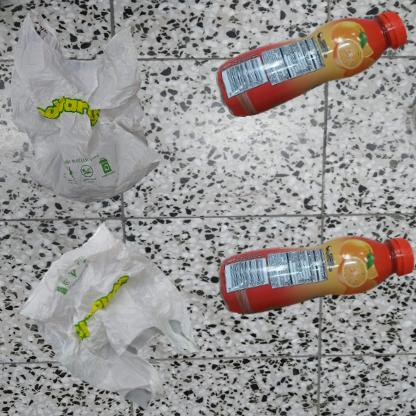bolsa: (10, 213, 208, 416), (10, 10, 162, 203)
botella: (213, 213, 416, 345), (213, 10, 416, 120)
